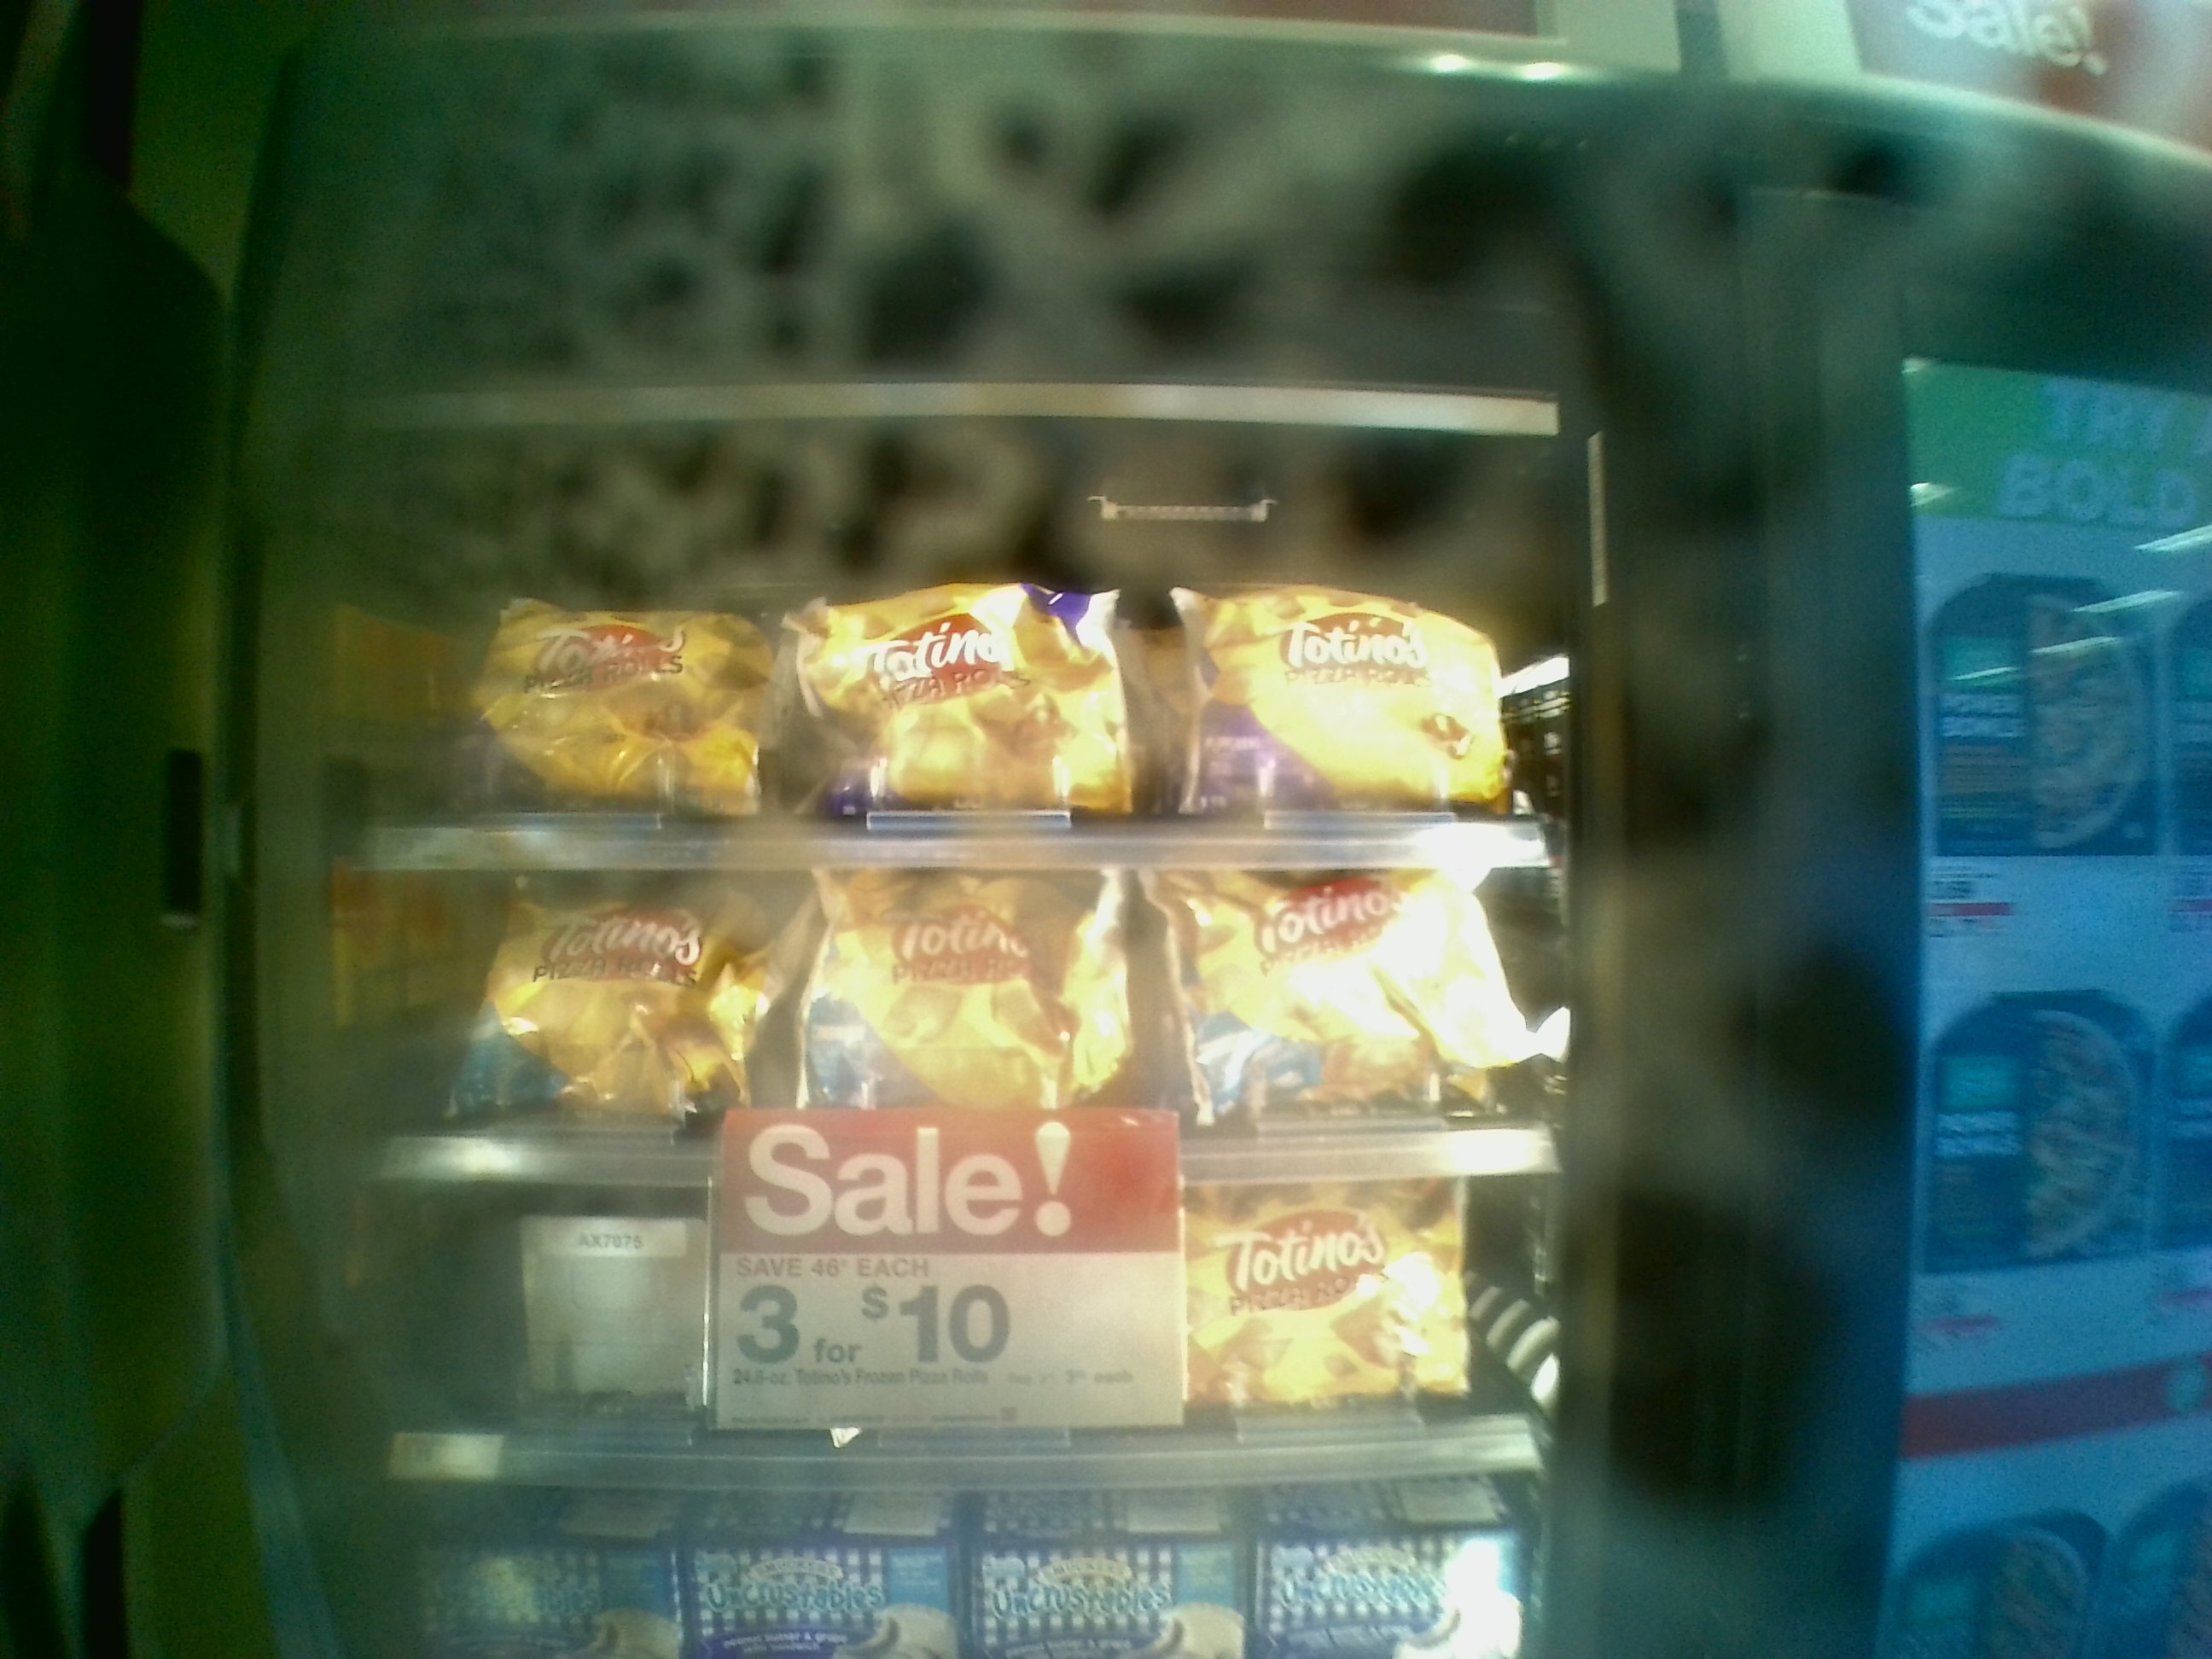shelf: (334, 861, 1564, 1176)
